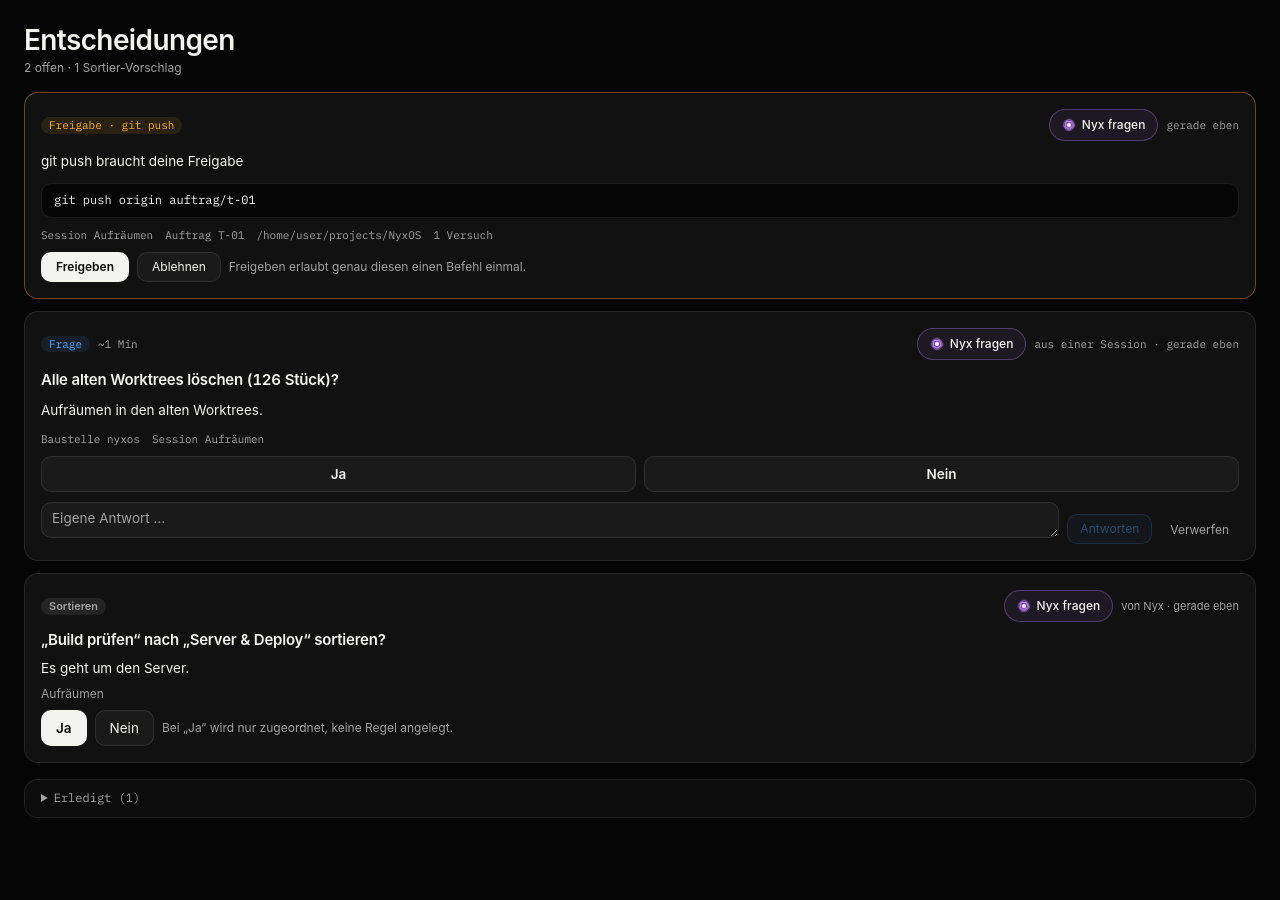
Scenario: Nyx fragen an jeder Karte › Fehler von Nyx wird ehrlich angezeigt, mit „Noch einmal“
Step 1. Click the button "Nyx fragen" in the row of "Freigabe · git push" → (1104, 125), box [1049,109,1158,141]
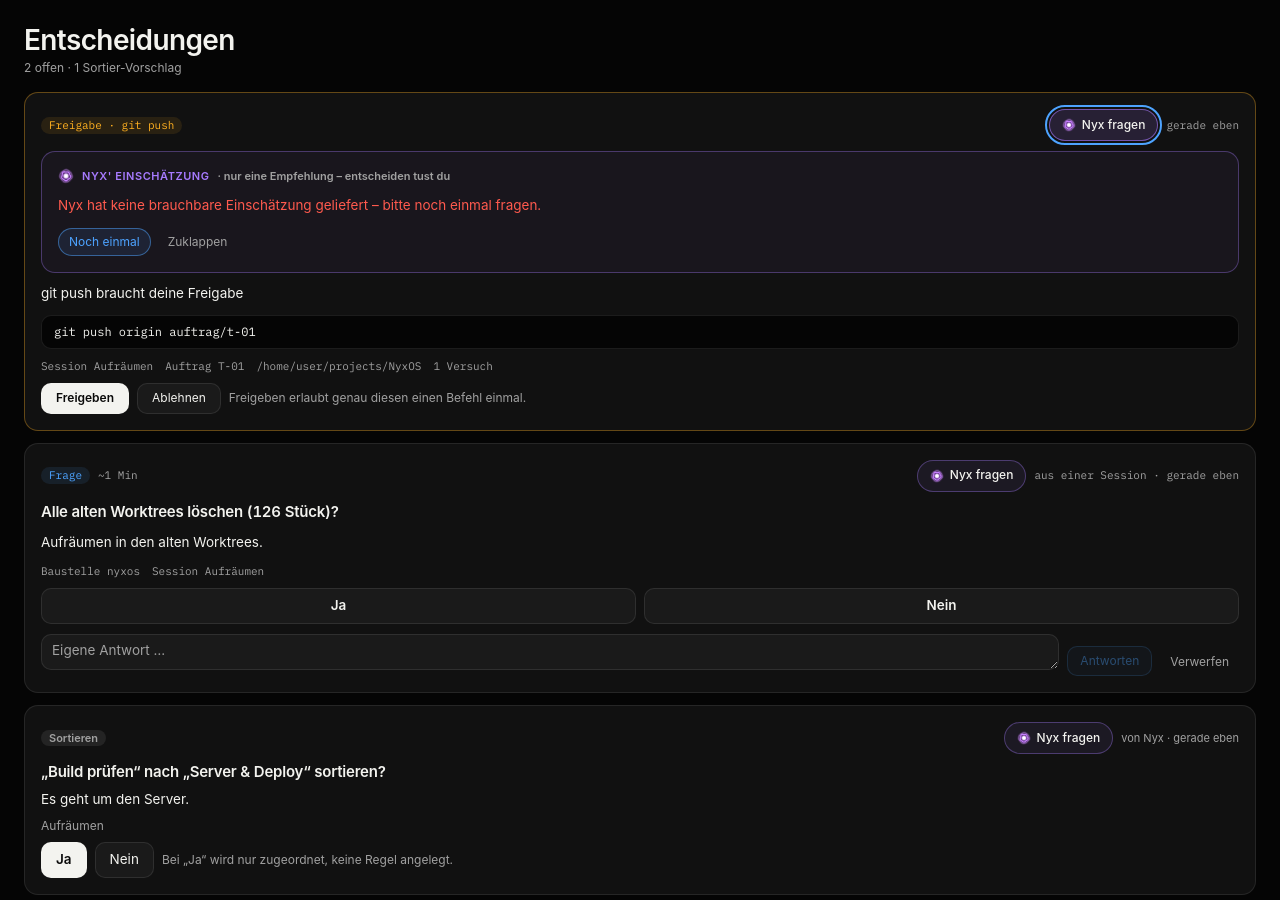
Now the message shows "keine brauchbare Einschätzung", box [58,197,541,213]
Now the button "Noch einmal" is shown, box [58,228,151,256]
